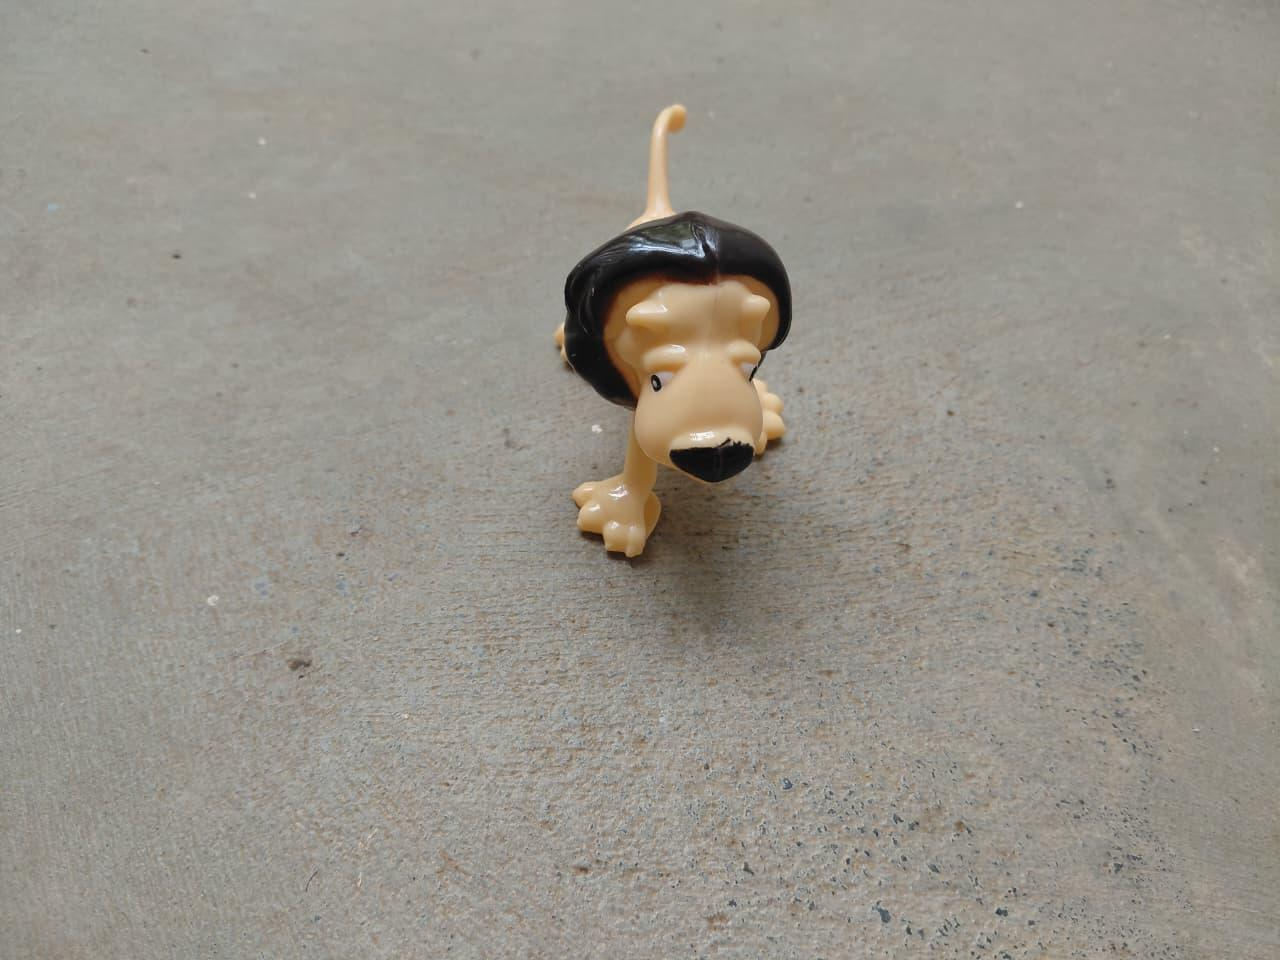lion: (536, 91, 805, 591)
